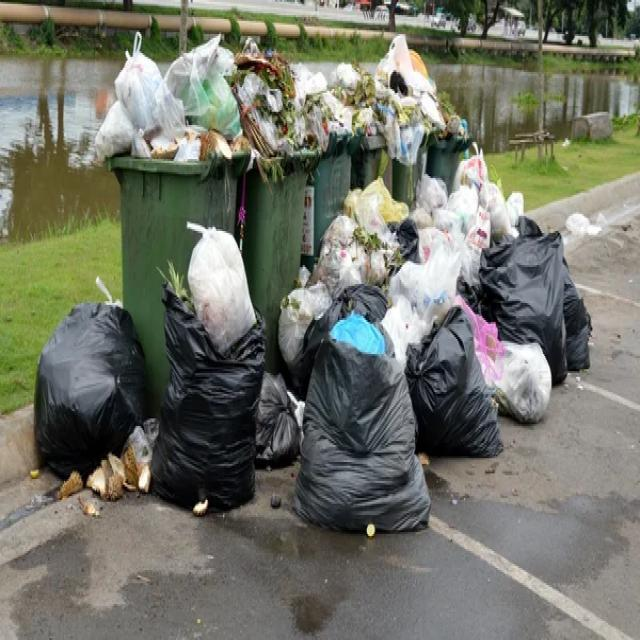garbage: (303, 192, 593, 580), (56, 232, 278, 538)
